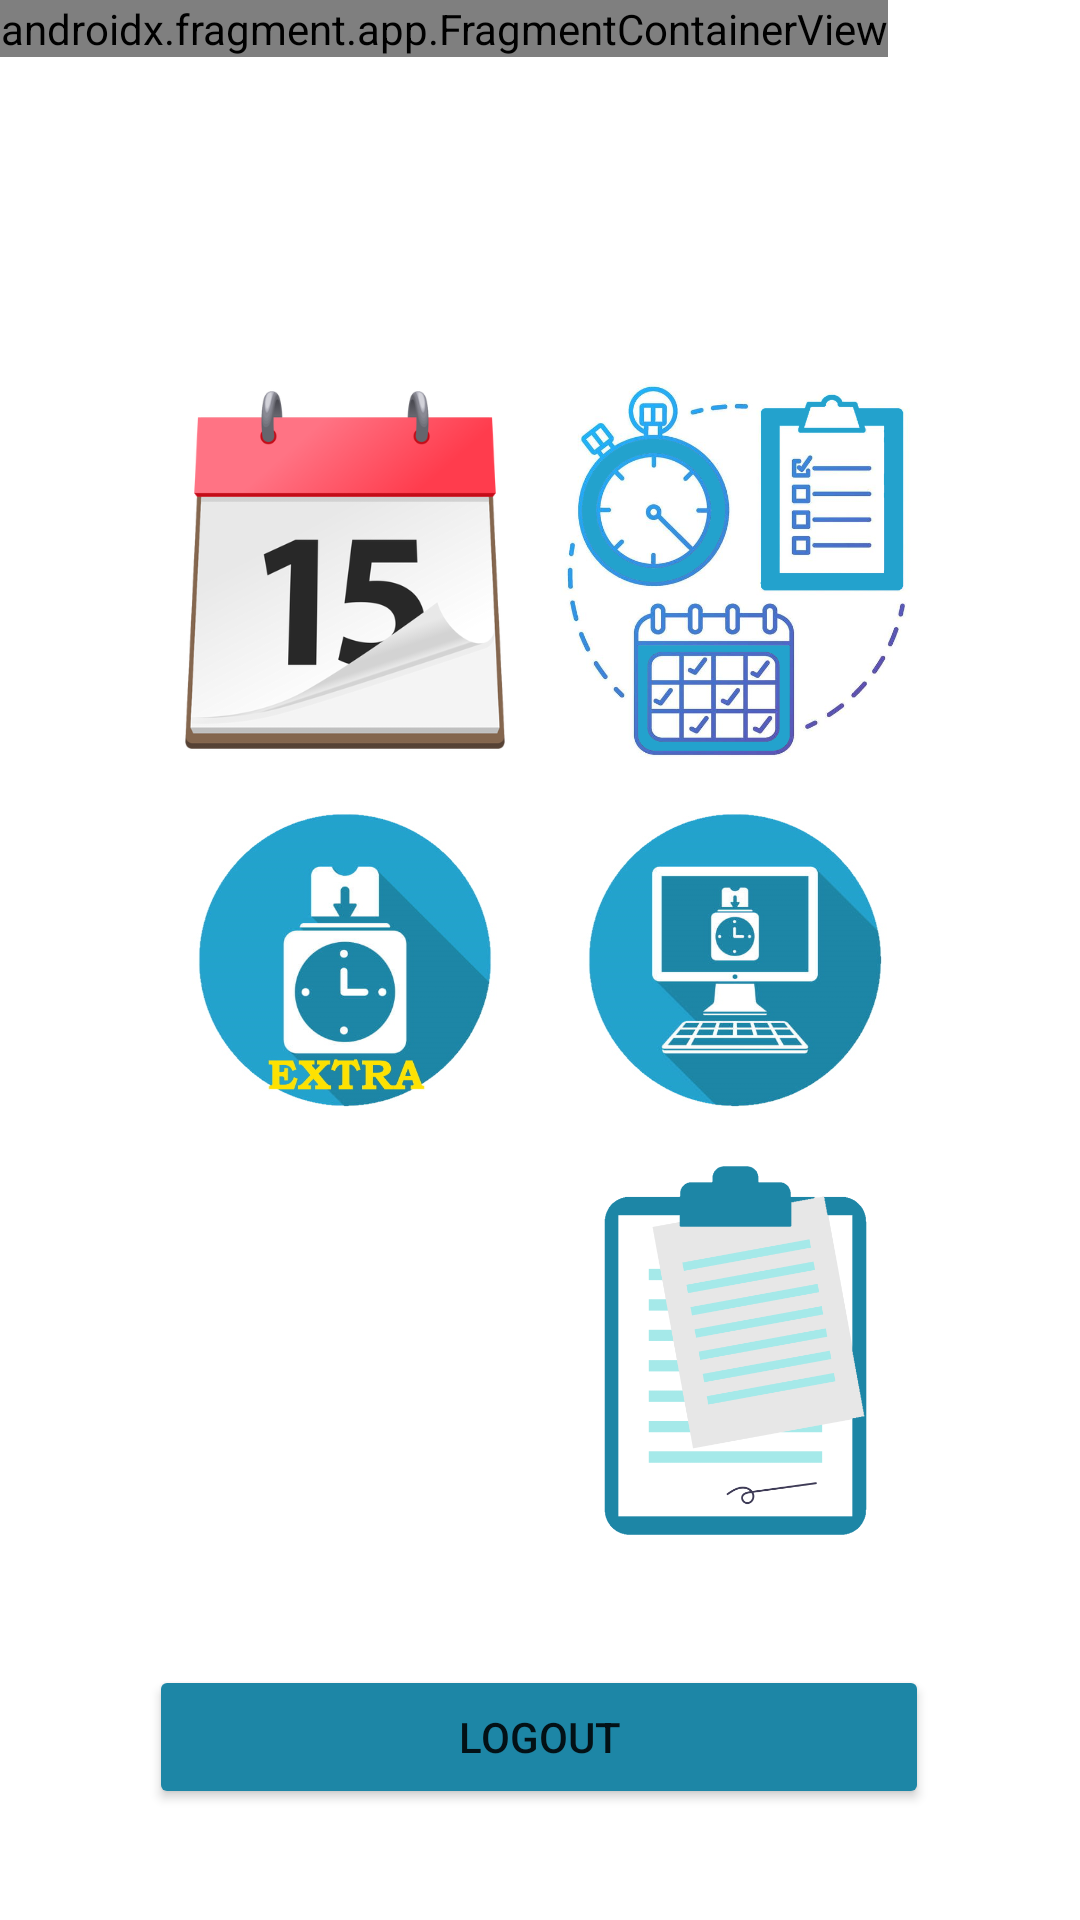

Point at icon controls on the screen. Image size 1080w x 1920h, points as [x,y].
calendario: [345,570]
pcfichar: [735,960]
